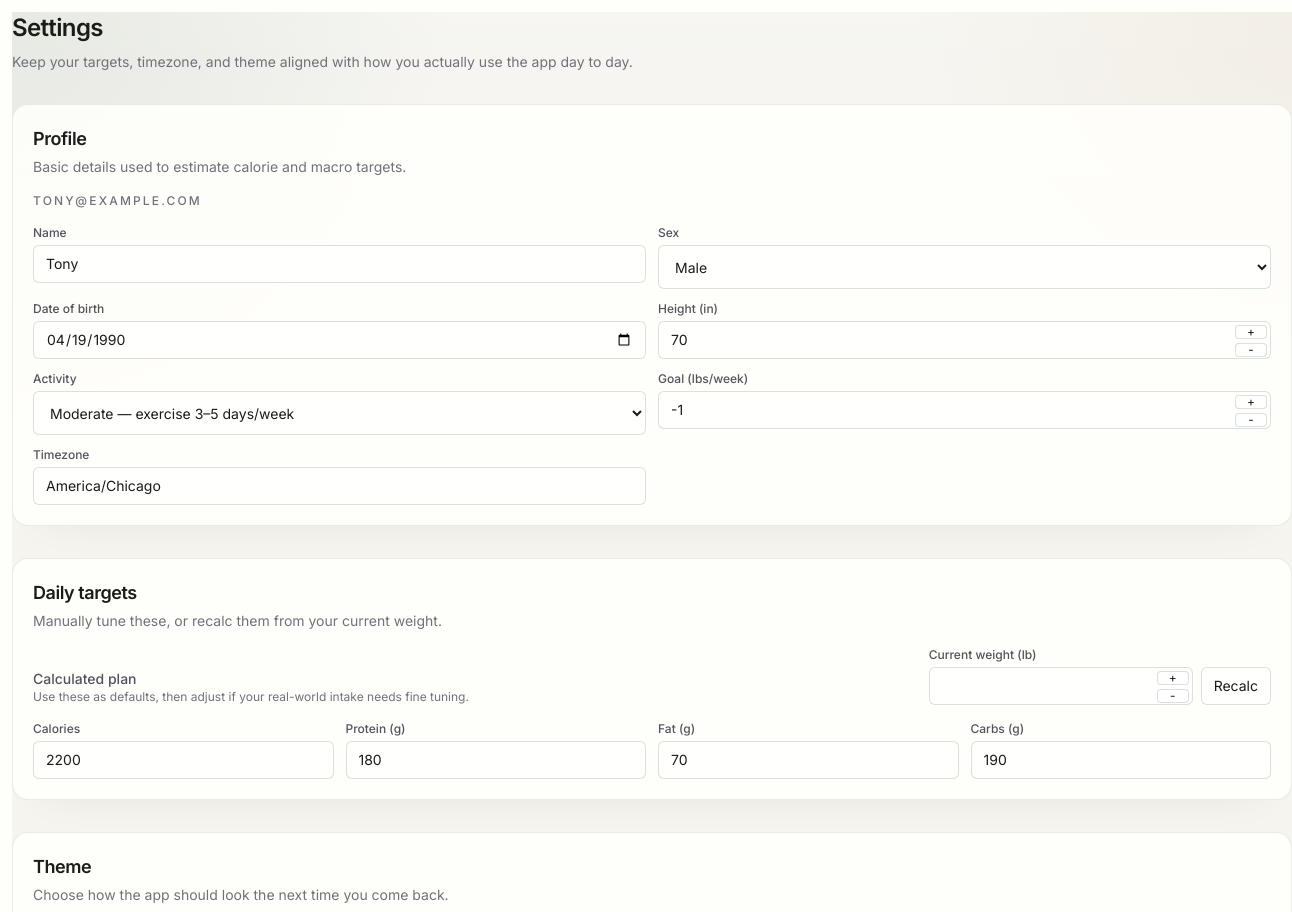
SettingsView › recalculates targets from the current weight input
Expected: the text "Daily targets" is shown, [33,582,137,603]
In the field below "Current weight (lb)": (1061, 686) [929,667,1193,705], type "205"
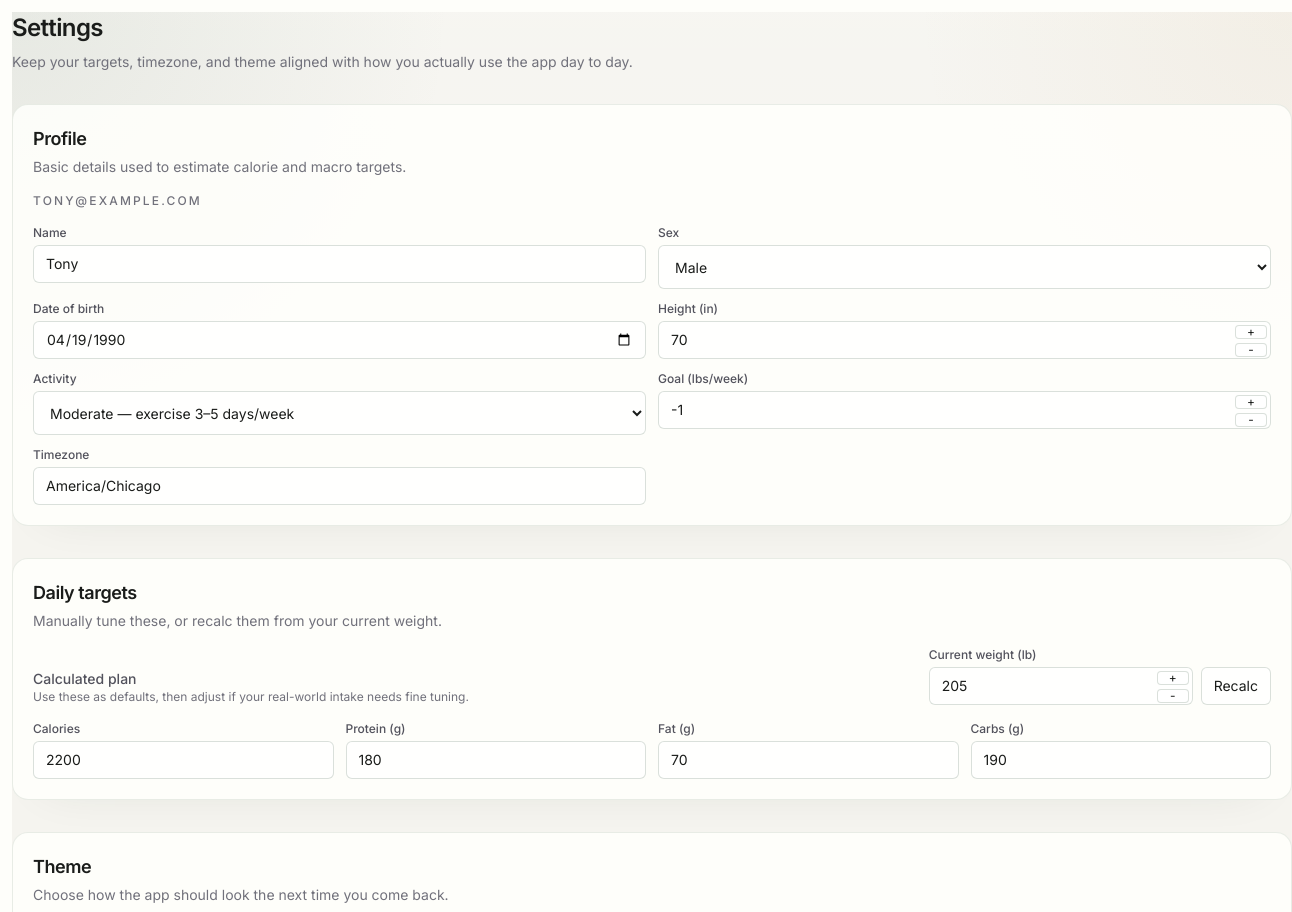
Click the button "Recalc": (1236, 686) [1201,667,1271,705]
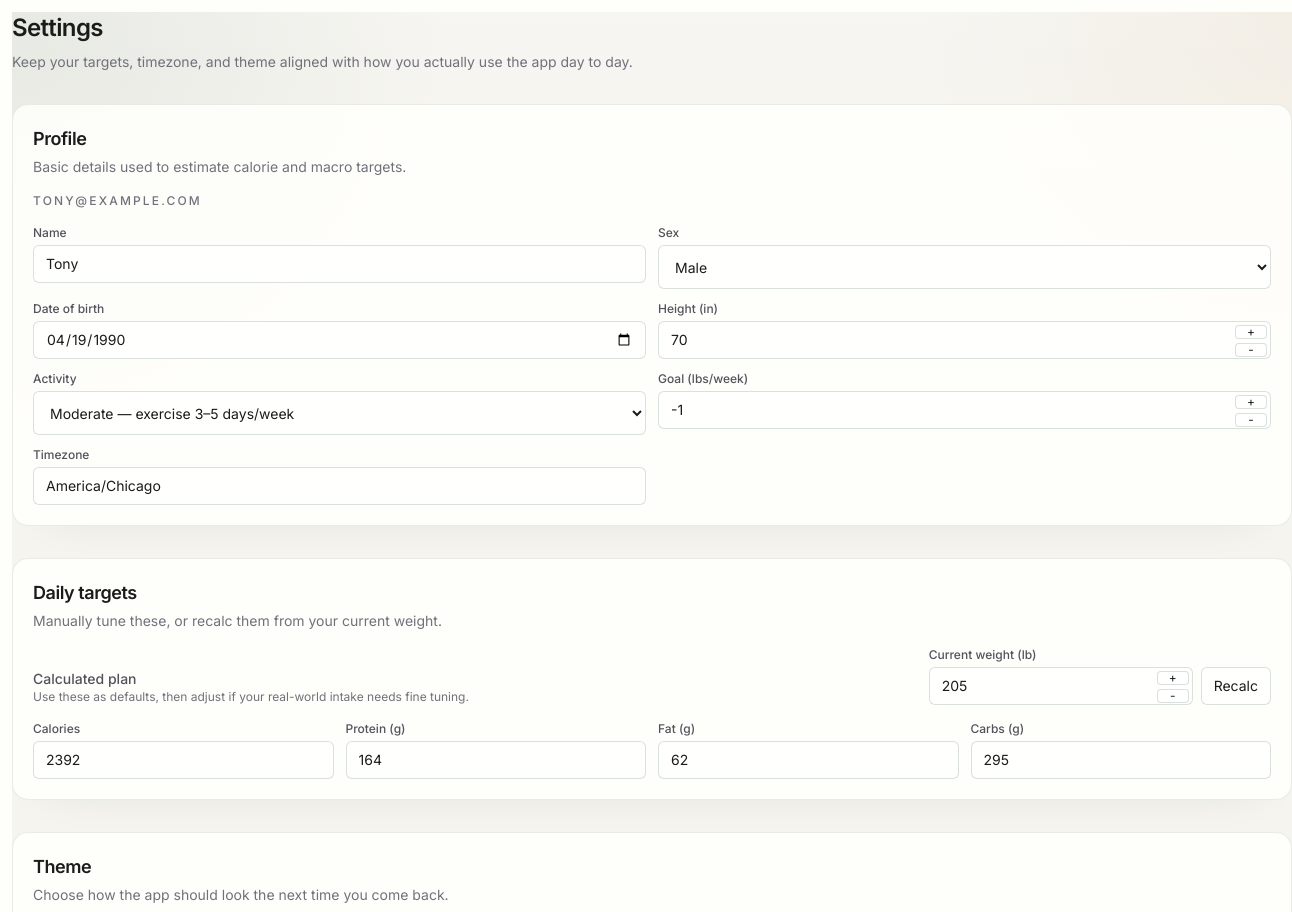
Result: the number field showing "62" below "Fat (g)" is shown at [658,741,958,779]
